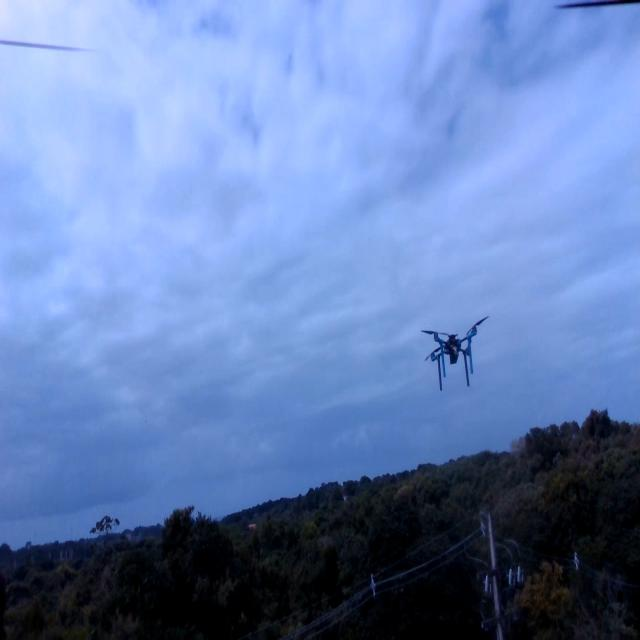-uav-: (412, 310, 493, 400)
